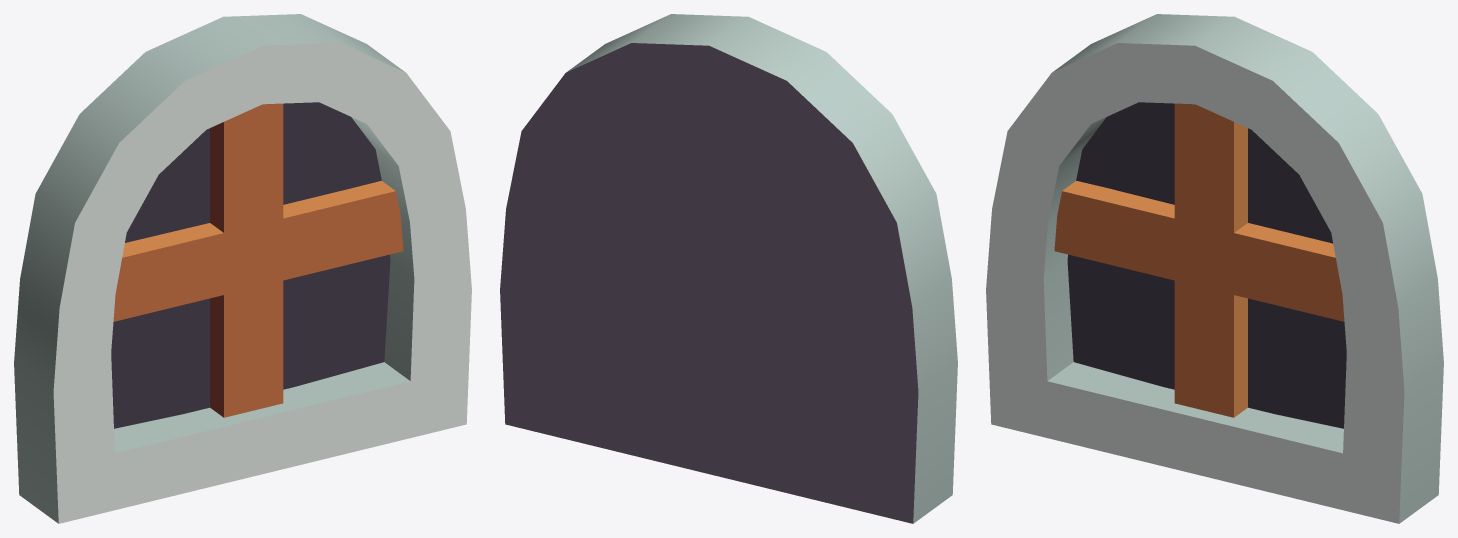
Rendered from SmallWindow01_White_Wood.glb.
3 renders of one model, left to right at view 1: azimuth 30°, elevation 25°; view 2: azimuth 150°, elevation 25°; view 3: azimuth 330°, elevation 25°, orthographic.
Visible parts, largest first — view 1: SmallWindow01_White_Wood; view 2: SmallWindow01_White_Wood; view 3: SmallWindow01_White_Wood.
Boxes of the visible parts, x1=… form: SmallWindow01_White_Wood: x1=14, y1=14, x2=471, y2=523; SmallWindow01_White_Wood: x1=500, y1=14, x2=957, y2=523; SmallWindow01_White_Wood: x1=986, y1=14, x2=1443, y2=523.
Bounding box in the file's own units: 0.5801 × 0.5676 × 0.0949.
1 material, 1 textured.
